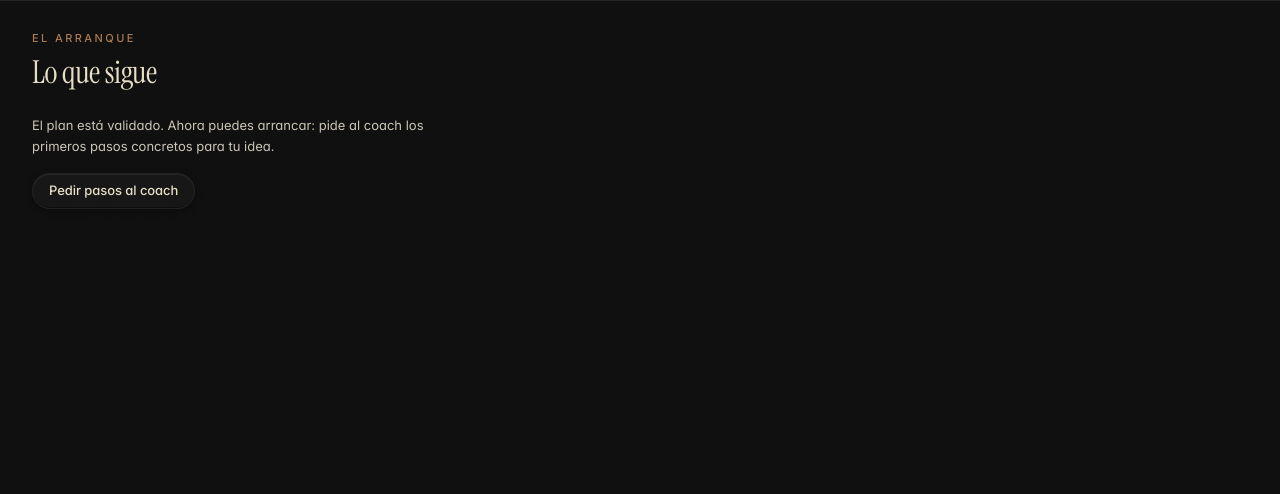
Test case: ArranqueSection — the steps the coach and the person agreed on › stores a proposal only when the person accepts it, one at a time
Expected: the text "El plan está validado" is shown, x1=32 y1=117 x2=424 y2=154
Click the button "Pedir pasos al coach": (114, 191) x1=32 y1=173 x2=195 y2=209
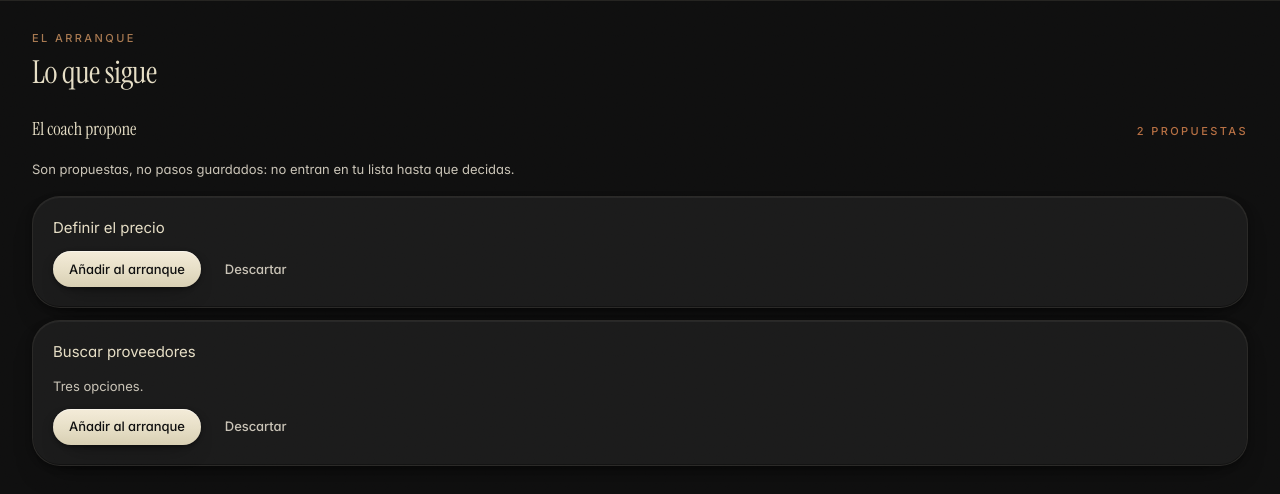
Click the button "Añadir al arranque" below "Definir el precio": (127, 269) x1=53 y1=251 x2=201 y2=287
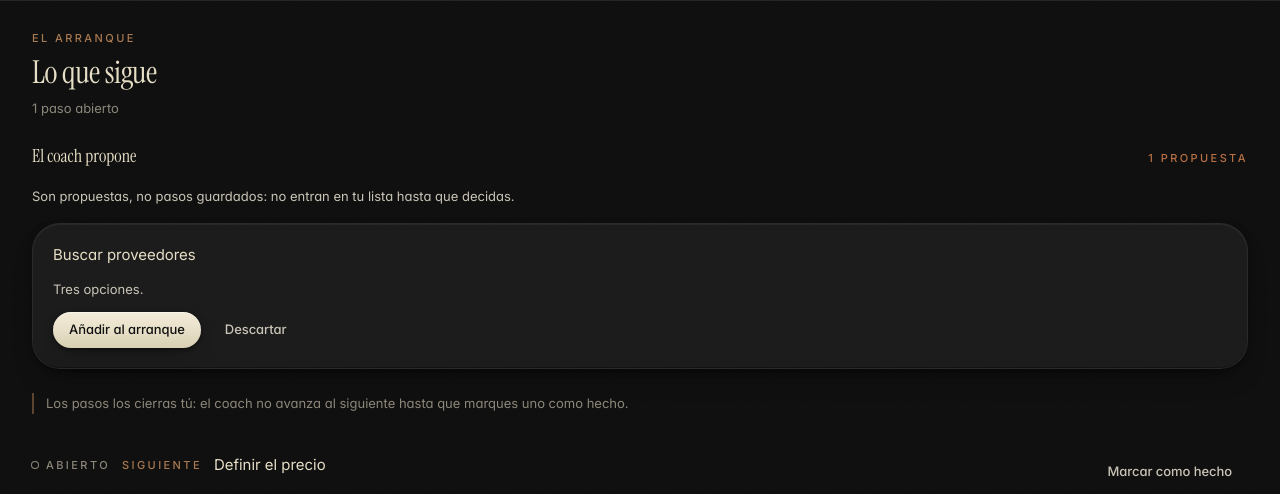
Expected: the button "Pedir pasos al coach" is not shown
Expected: the text "Buscar proveedores" is shown, x1=53 y1=245 x2=196 y2=264
Expected: the text "Definir el precio" is shown once, x1=214 y1=454 x2=326 y2=476
